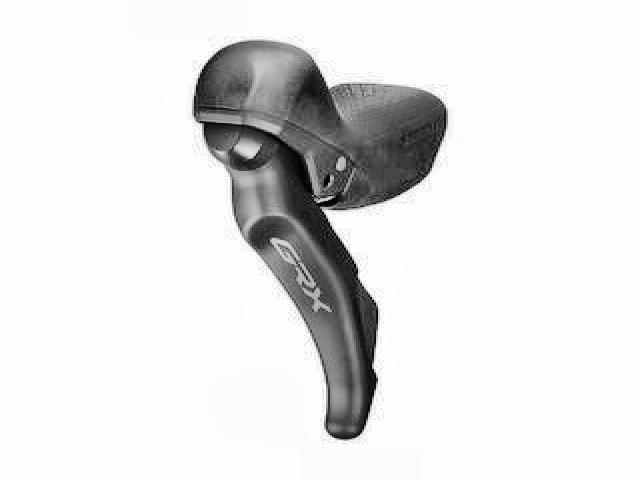sti_shifter: (187, 33, 440, 441)
